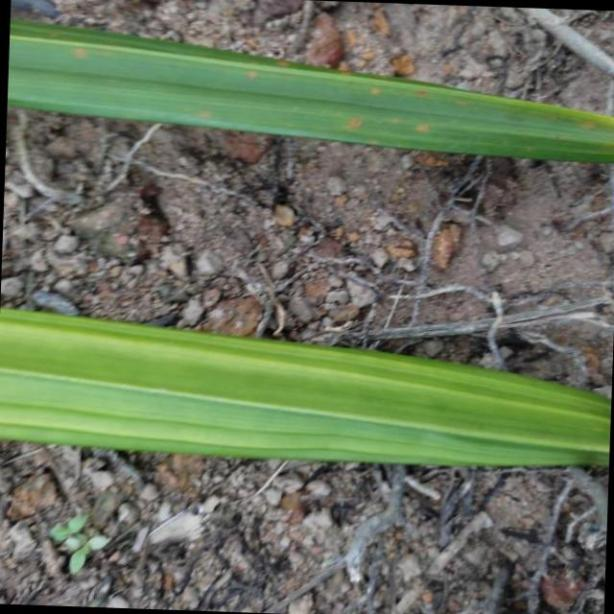nitrogen: (0, 310, 614, 475), (8, 14, 611, 165)
